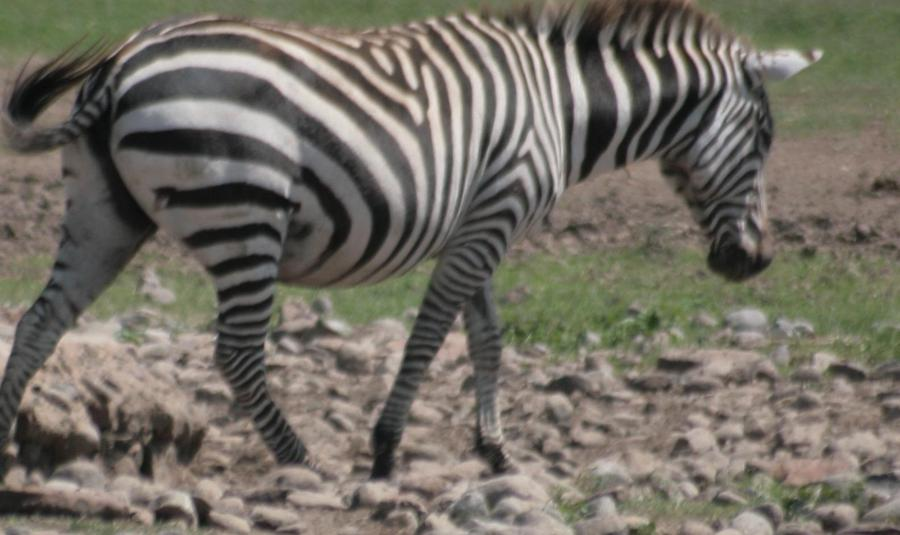zebra_plains: (138, 32, 575, 392)
